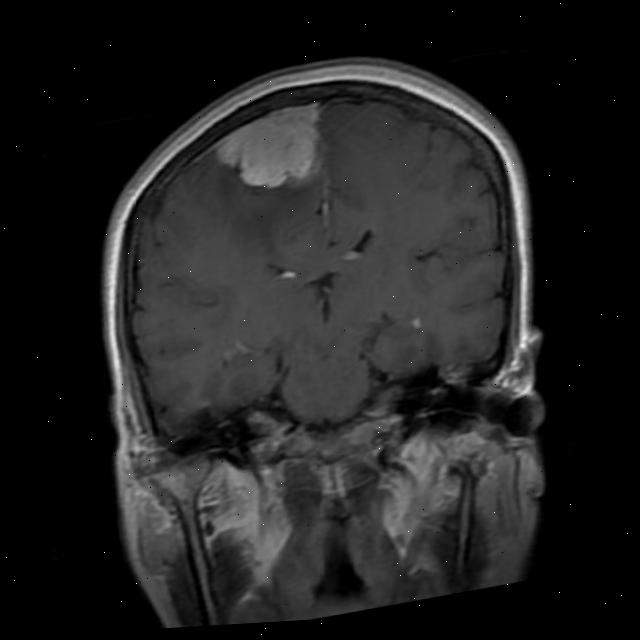Meningioma: (208, 97, 330, 197)
